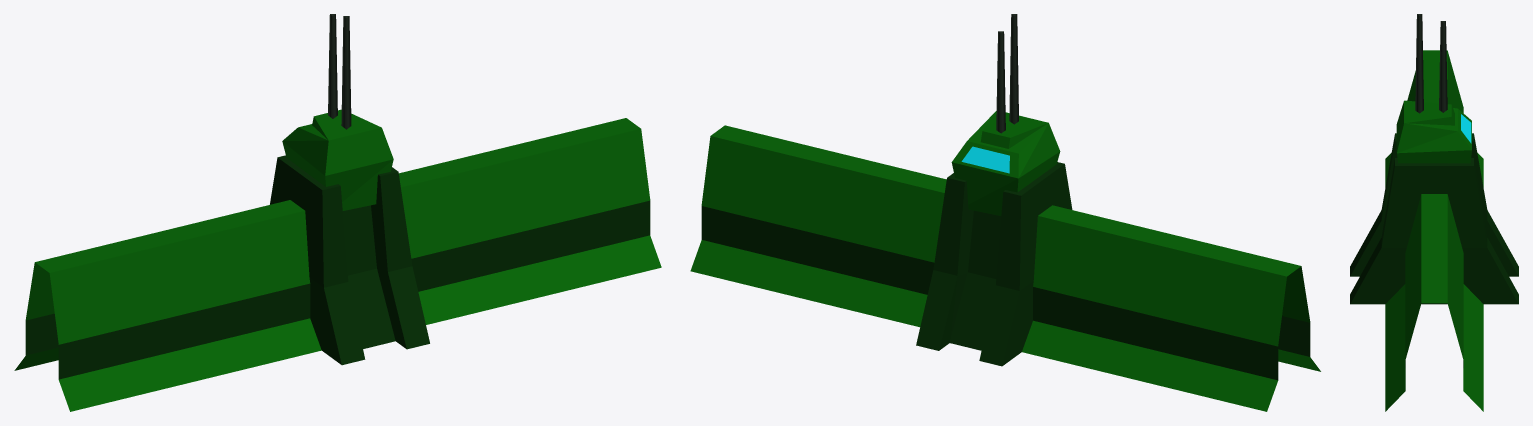
Rendered from FoWAssets.fbx.
3 renders of one model, left to right at view 1: azimuth 30°, elevation 25°; view 2: azimuth 150°, elevation 25°; view 3: azimuth 270°, elevation 25°, orthographic. The views are drawn at different scales.
Visible parts, largest first — view 1: Wall, Tower; view 2: Wall, Tower; view 3: Tower, Wall.
Boxes of the visible parts, x1,y1,x2,y2 form: Wall: (14,118,661,411); Tower: (270,14,429,365); Wall: (690,125,1320,411); Tower: (916,14,1072,366); Tower: (1350,14,1518,304); Wall: (1385,50,1483,411).
Bounding box in the file's own units: 100 × 50.25 × 28.15.
